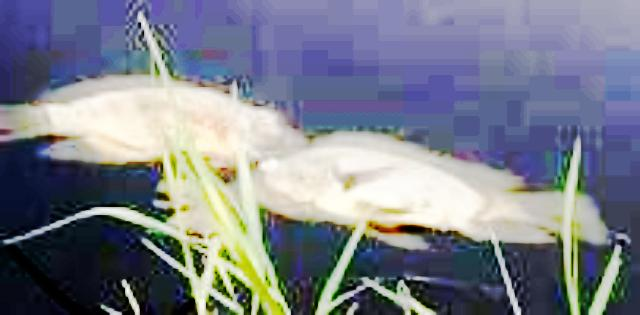Columnaris Disease: (262, 132, 558, 240), (0, 76, 303, 164)
